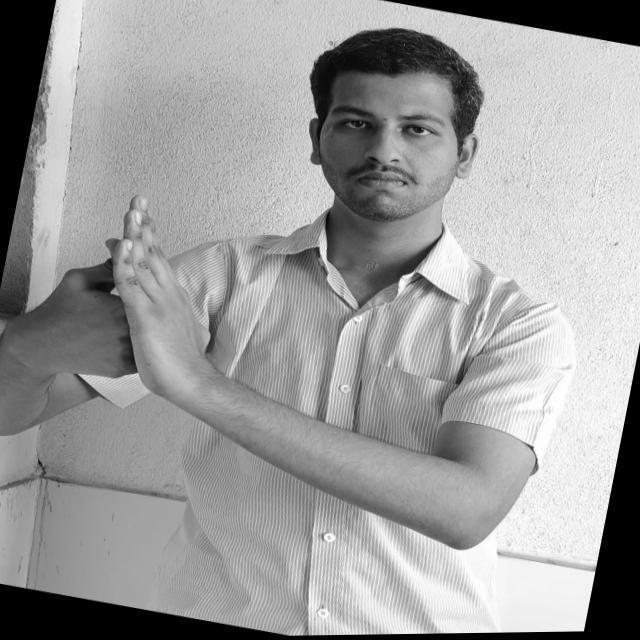Well Done: (18, 175, 230, 417)
